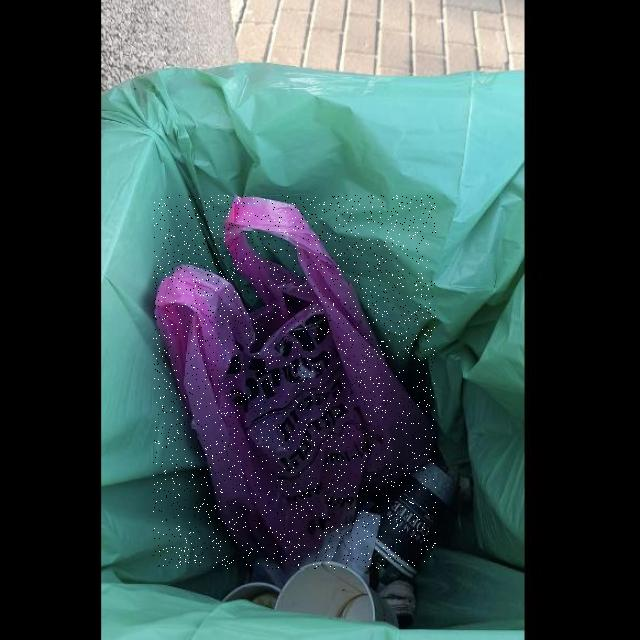plastic: (154, 195, 436, 569)
